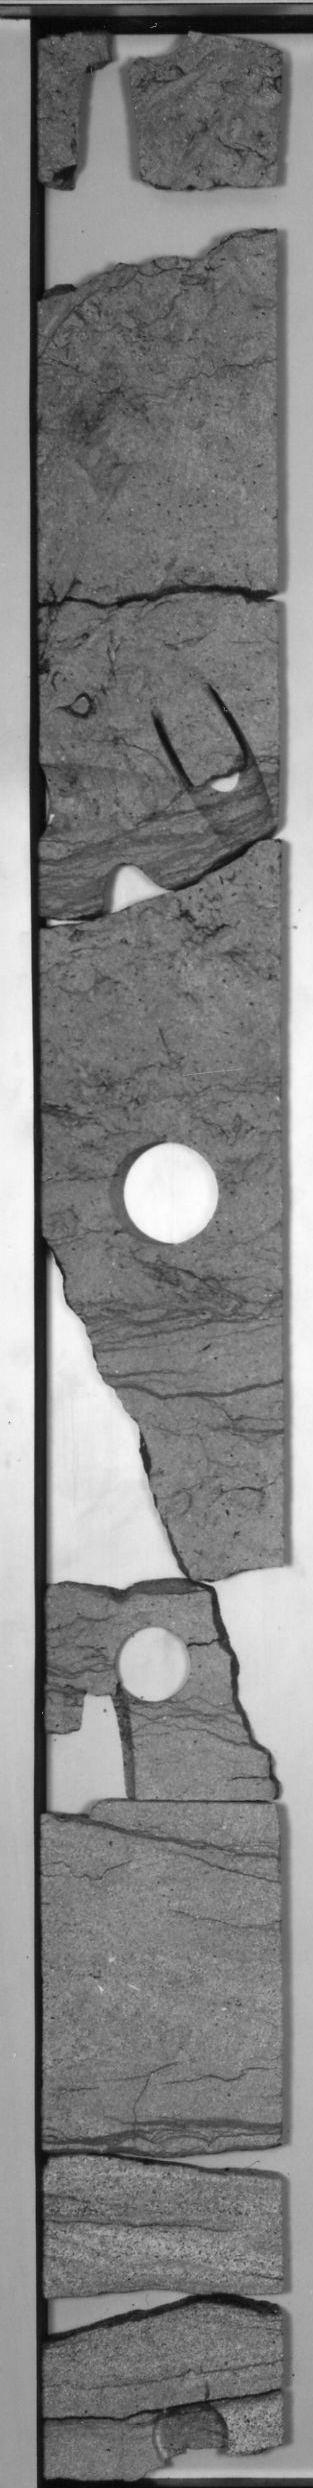hplug: (37, 757, 181, 866), (103, 1623, 211, 1714), (145, 2382, 237, 2472), (102, 27, 199, 62)
scal: (99, 1125, 238, 1258)
vplug: (149, 682, 280, 854), (54, 1672, 138, 1822), (71, 59, 151, 186), (87, 854, 180, 916)
